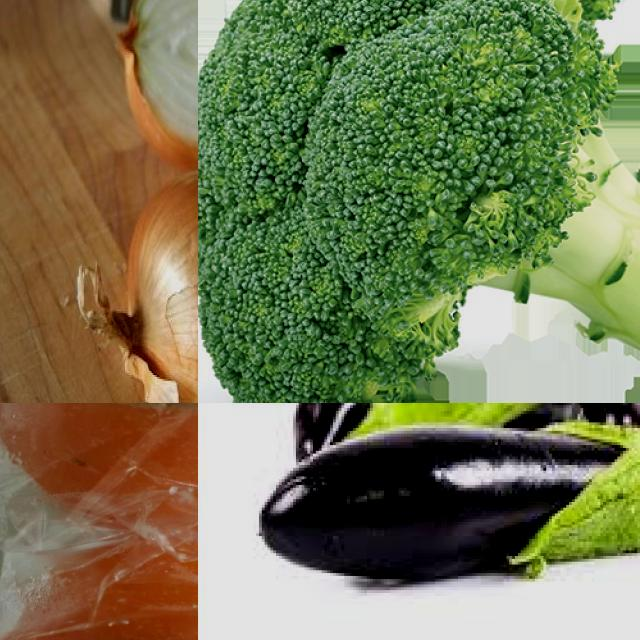carrot: (1, 404, 199, 513), (1, 534, 199, 640)
eggplant: (257, 423, 640, 576)
onion: (119, 174, 199, 404), (116, 1, 199, 169)
